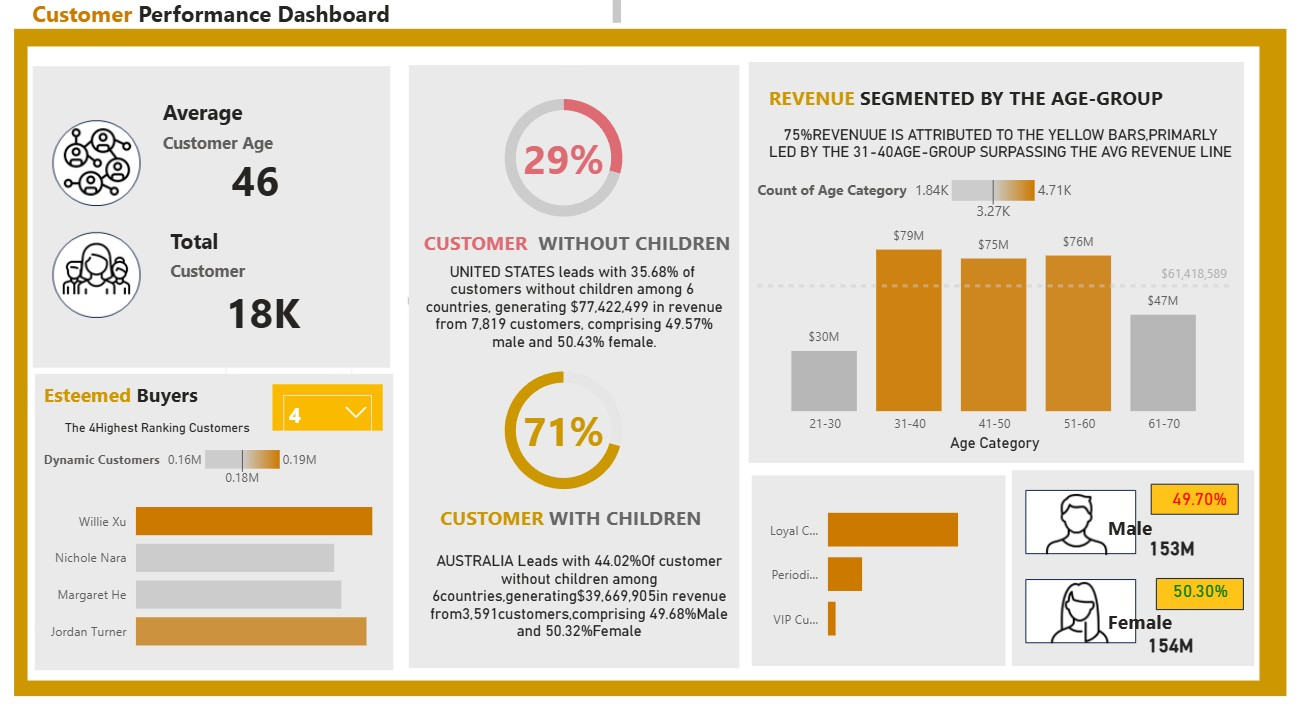

The dashboard page shown, as its layout file describes it:
{"tool":"powerbi","page":{"name":"Customer Report","canvas":[1280,720],"ordinal":0},"visuals":[{"type":"clusteredColumnChart","fields":{"Category":["DimCustomer.Age Category"],"Y":["All Measures.TOTAL REVENUE"]},"box":[745.6,172.5,468.1,275.1],"z":0},{"type":"textbox","box":[756.4,83.2,457.2,36.2],"z":1000},{"type":"donutChart","fields":{"Y":["Customer Measures.% C Eithout Children","Customer Measures.% CWC"]},"box":[468.1,83.2,190.6,152],"z":2000},{"type":"donutChart","fields":{"Y":["Customer Measures.% C Eithout Children","Customer Measures.% CWC"]},"box":[468.1,346.2,190.6,152],"z":3000},{"type":"card","fields":{"Values":["Customer Measures.% C Eithout Children"]},"box":[468.1,83.2,190.6,152],"z":4000},{"type":"card","fields":{"Values":["Customer Measures.% CWC"]},"box":[468.1,346.2,190.6,152],"z":5000},{"type":"textbox","box":[423.5,223.2,313.7,48.3],"z":6000},{"type":"textbox","box":[439.1,488.6,282.3,48.3],"z":7000},{"type":"card","fields":{"Values":["All Measures.Caption Customer Without Children"]},"box":[416.2,247.3,314.9,109.8],"z":8000},{"type":"card","fields":{"Values":["All Measures.Caption Customer With Children"]},"box":[423.5,512.7,313.7,137.5],"z":9000},{"type":"clusteredBarChart","fields":{"Category":["DimCustomer.Customer Type"],"Y":["All Measures.TOTAL REVENUE"]},"box":[745.6,471.7,240.1,172.5],"z":10000},{"type":"clusteredBarChart","fields":{"Category":["DimCustomer.Full Name"],"Y":["Customer Measures.Dynamic Customers"]},"box":[56.7,433.1,334.2,217.2],"z":11000},{"type":"slicer","fields":{"Values":["Dynamic Customers.Dynamic Customers"]},"box":[282.3,377.6,106.2,44.6],"z":12000},{"type":"card","fields":{"Values":["Customer Measures.% Male"]},"box":[1123.2,450,108.6,77.2],"z":13000},{"type":"card","fields":{"Values":["Customer Measures.% Female"]},"box":[1123.2,548.9,109.8,57.9],"z":14000},{"type":"card","title":"Average","fields":{"Values":["Customer Measures.Avg Customer Age"]},"box":[171.3,101.3,189.4,103.8],"z":15000},{"type":"card","title":"Total","fields":{"Values":["Customer Measures.#Customers"]},"box":[178.6,225.6,189.4,109.8],"z":16000},{"type":"textbox","box":[1083.4,588.7,107.4,37.4],"z":17000},{"type":"textbox","box":[1083.4,498.3,130.3,38.6],"z":18000},{"type":"card","fields":{"Values":["Customer Measures.Avg Caption"]},"box":[756.4,107.4,457.2,77.2],"z":19000},{"type":"textbox","box":[56.7,370.4,217.2,36.2],"z":20000},{"type":"card","fields":{"Values":["Customer Measures.Title Top Customers"]},"box":[68.8,406.6,205.1,26.5],"z":21000},{"type":"card","fields":{"Values":["Customer Measures.Male Revenue"]},"box":[1083.4,510.3,133.9,51.9],"z":22000},{"type":"card","fields":{"Values":["Customer Measures.Female Revenue"]},"box":[1073.7,608,150.8,43.4],"z":23000},{"type":"textbox","box":[45.8,0,577.9,36.2],"z":24000}]}

Visuals, with their boxes in screenshot pixels (x1, y1, x2, y2), scaled from the page's 1280x720 canvas onto the 1303x722 screenshot:
clusteredColumnChart - DimCustomer.Age Category x All Measures.TOTAL REVENUE: box(759, 173, 1236, 449)
textbox: box(770, 83, 1235, 120)
donutChart - Customer Measures.% C Eithout Children x Customer Measures.% CWC: box(477, 83, 671, 236)
donutChart - Customer Measures.% C Eithout Children x Customer Measures.% CWC: box(477, 347, 671, 500)
card - Customer Measures.% C Eithout Children: box(477, 83, 671, 236)
card - Customer Measures.% CWC: box(477, 347, 671, 500)
textbox: box(431, 224, 750, 272)
textbox: box(447, 490, 734, 538)
card - All Measures.Caption Customer Without Children: box(424, 248, 744, 358)
card - All Measures.Caption Customer With Children: box(431, 514, 750, 652)
clusteredBarChart - DimCustomer.Customer Type x All Measures.TOTAL REVENUE: box(759, 473, 1003, 646)
clusteredBarChart - DimCustomer.Full Name x Customer Measures.Dynamic Customers: box(58, 434, 398, 652)
slicer - Dynamic Customers.Dynamic Customers: box(287, 379, 395, 423)
card - Customer Measures.% Male: box(1143, 451, 1254, 529)
card - Customer Measures.% Female: box(1143, 550, 1255, 608)
"Average" card: box(174, 102, 367, 206)
"Total" card: box(182, 226, 375, 336)
textbox: box(1103, 590, 1212, 628)
textbox: box(1103, 500, 1236, 538)
card - Customer Measures.Avg Caption: box(770, 108, 1235, 185)
textbox: box(58, 371, 279, 408)
card - Customer Measures.Title Top Customers: box(70, 408, 279, 434)
card - Customer Measures.Male Revenue: box(1103, 512, 1239, 564)
card - Customer Measures.Female Revenue: box(1093, 610, 1247, 653)
textbox: box(47, 0, 635, 36)
